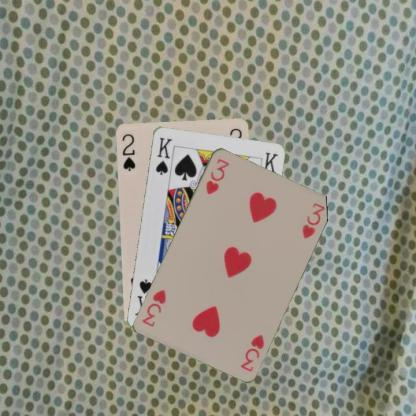2s: (119, 131, 136, 172)
3h: (238, 331, 265, 373), (203, 155, 230, 196)
Ks: (152, 134, 174, 176)
